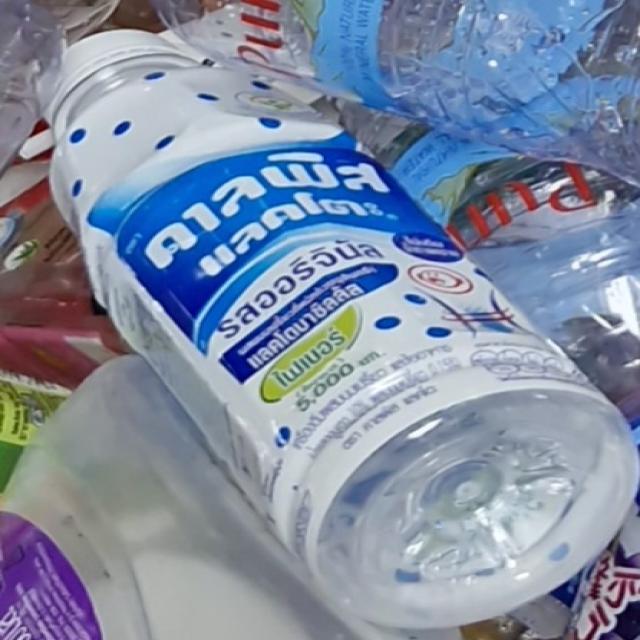plastic bottle: (27, 0, 640, 613)
